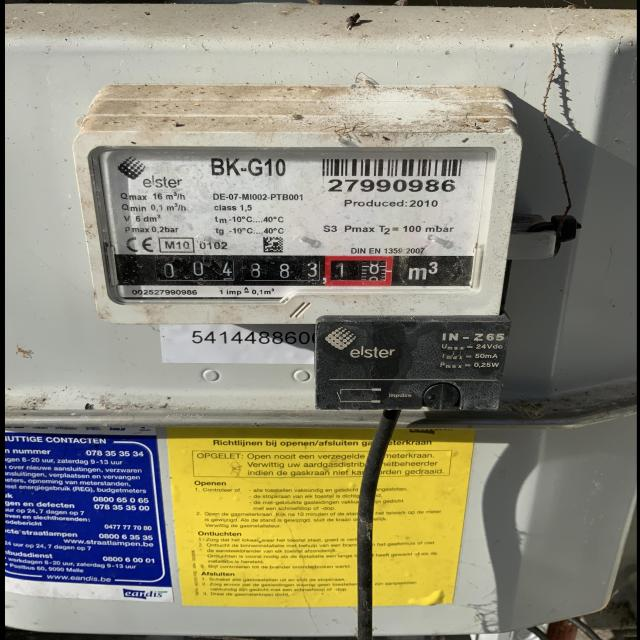gaz_meter: (98, 148, 476, 292)
indication: (145, 253, 399, 290)
